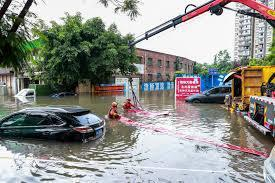water: (0, 89, 273, 182), (13, 96, 37, 104)
